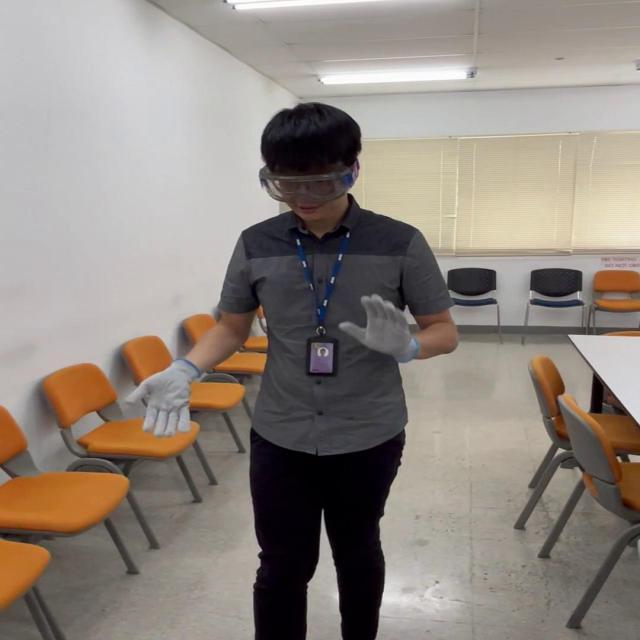gloved_hand: (338, 291, 419, 364), (132, 358, 201, 438)
